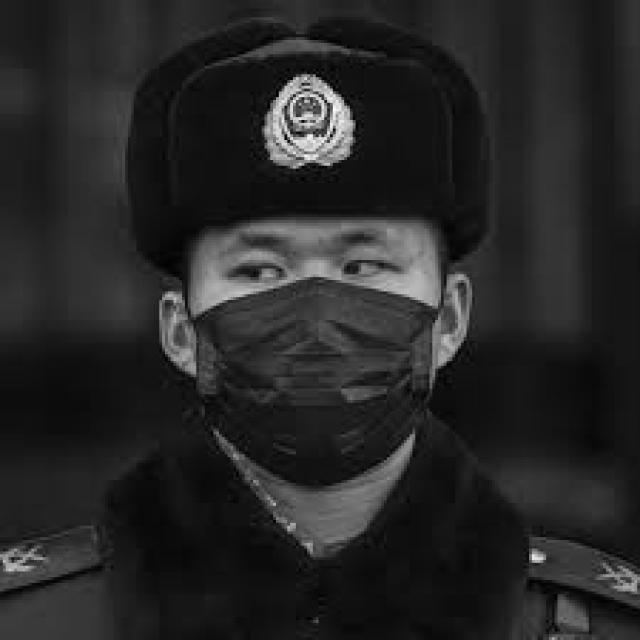with_mask: (185, 274, 444, 486)
